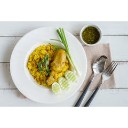briyani: (28, 44, 69, 84)
